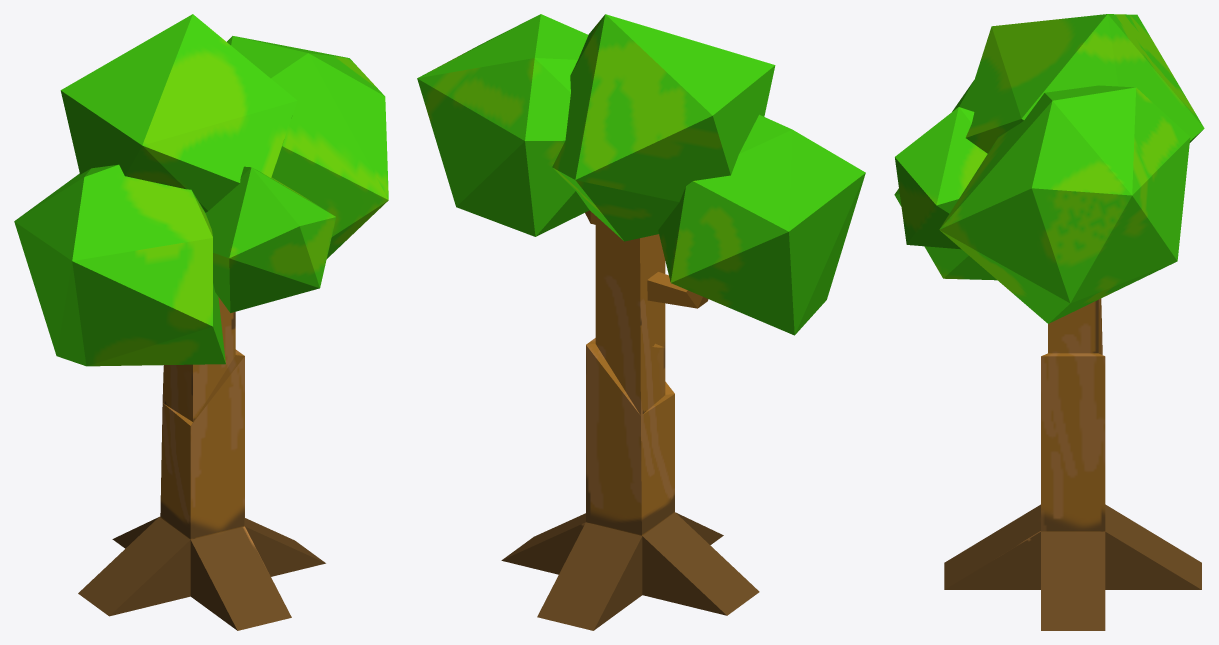
Rendered from tree_chesburg_6.glb.
The picture shows the model from 3 angles, left to right: view 1: azimuth 30°, elevation 25°; view 2: azimuth 150°, elevation 25°; view 3: azimuth 270°, elevation 25°; orthographic projection. The views are drawn at different scales.
Visible parts, largest first — view 1: trunk_2.003; view 2: trunk_2.003; view 3: trunk_2.003.
Boxes of the visible parts, box(x1,y1,x2,y2) form: trunk_2.003: box(14, 14, 388, 630); trunk_2.003: box(417, 14, 865, 630); trunk_2.003: box(894, 14, 1204, 630).
Size of what is drawn, in the model's own units: 6.61 by 9.69 by 4.81.
Materials: 1 (1 with a texture image).
